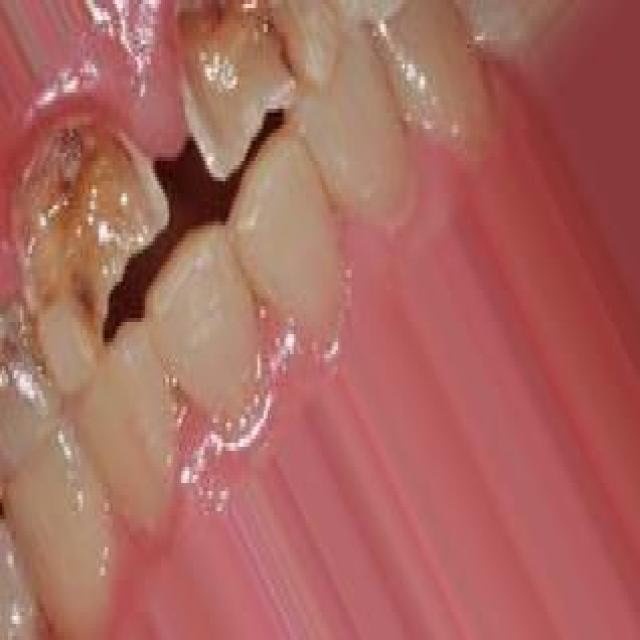caries: (6, 95, 168, 385), (175, 0, 298, 181)
